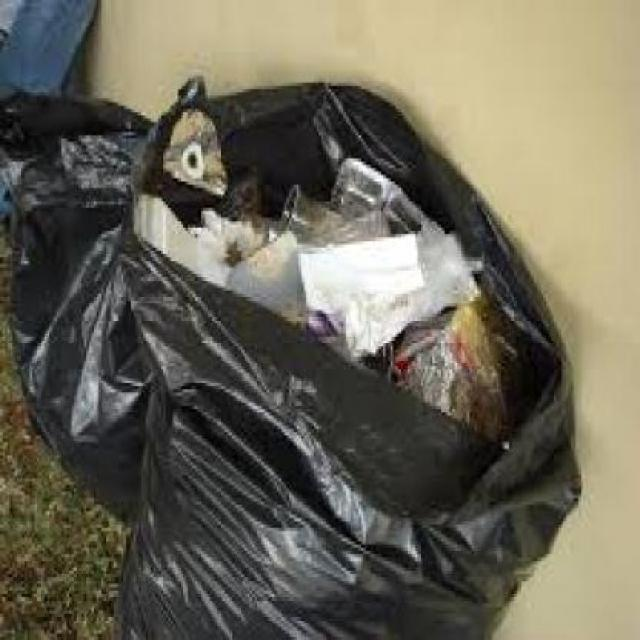garbage: (3, 86, 578, 637)
